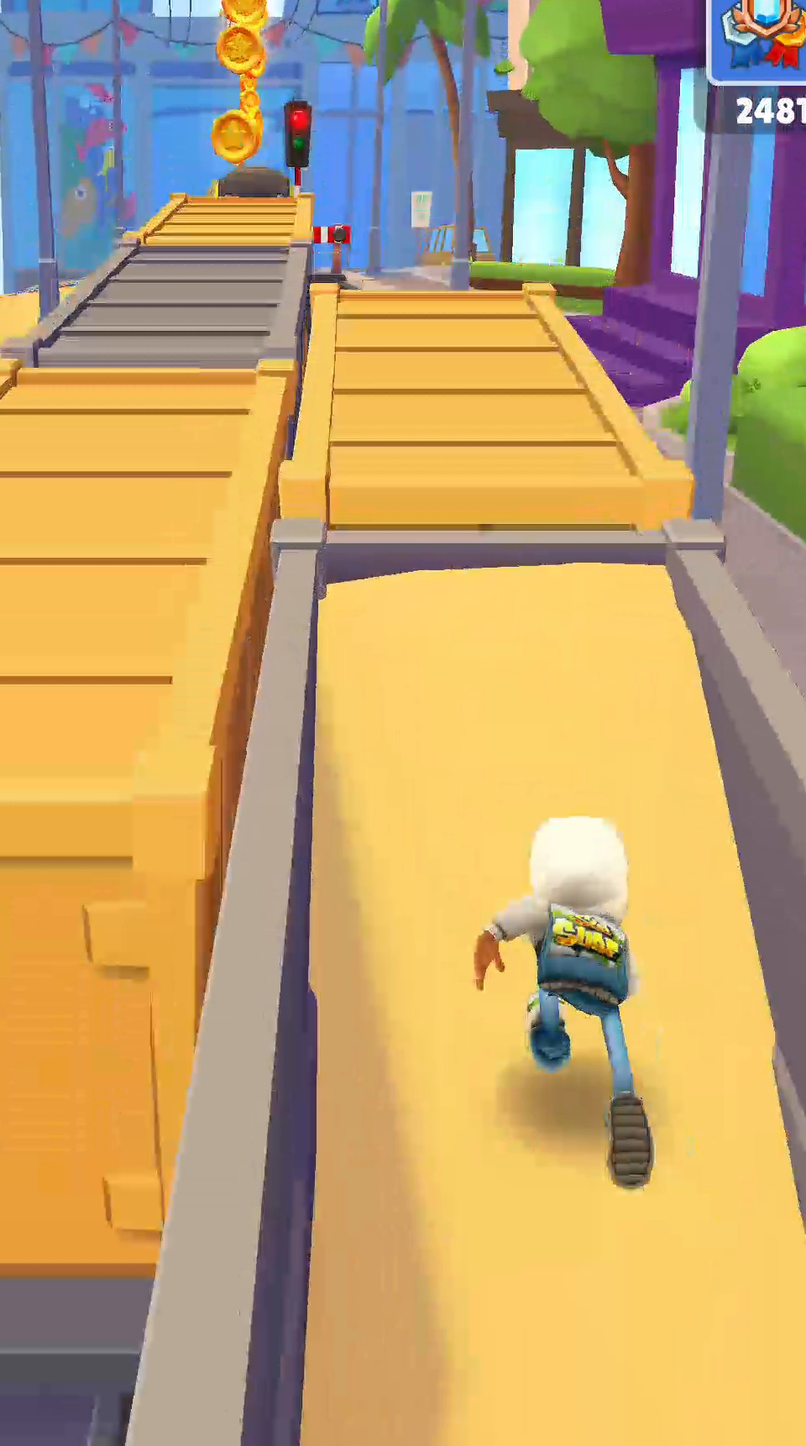blocker: (315, 227, 350, 273)
train: (212, 165, 290, 198)
